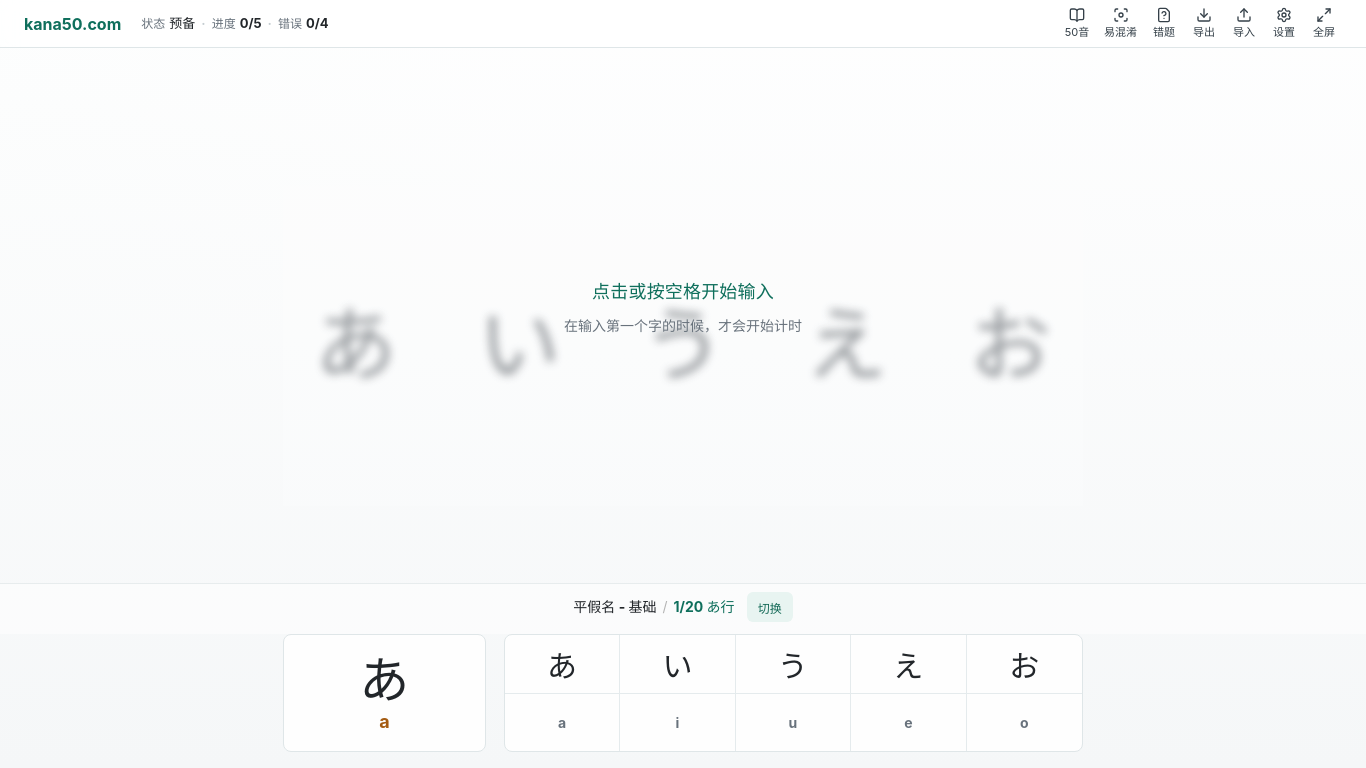
Scenario: practice page › opens the level drawer from the level switch
Click the button with aria-label "切换关卡" at [770, 607], box [747,592,793,622]
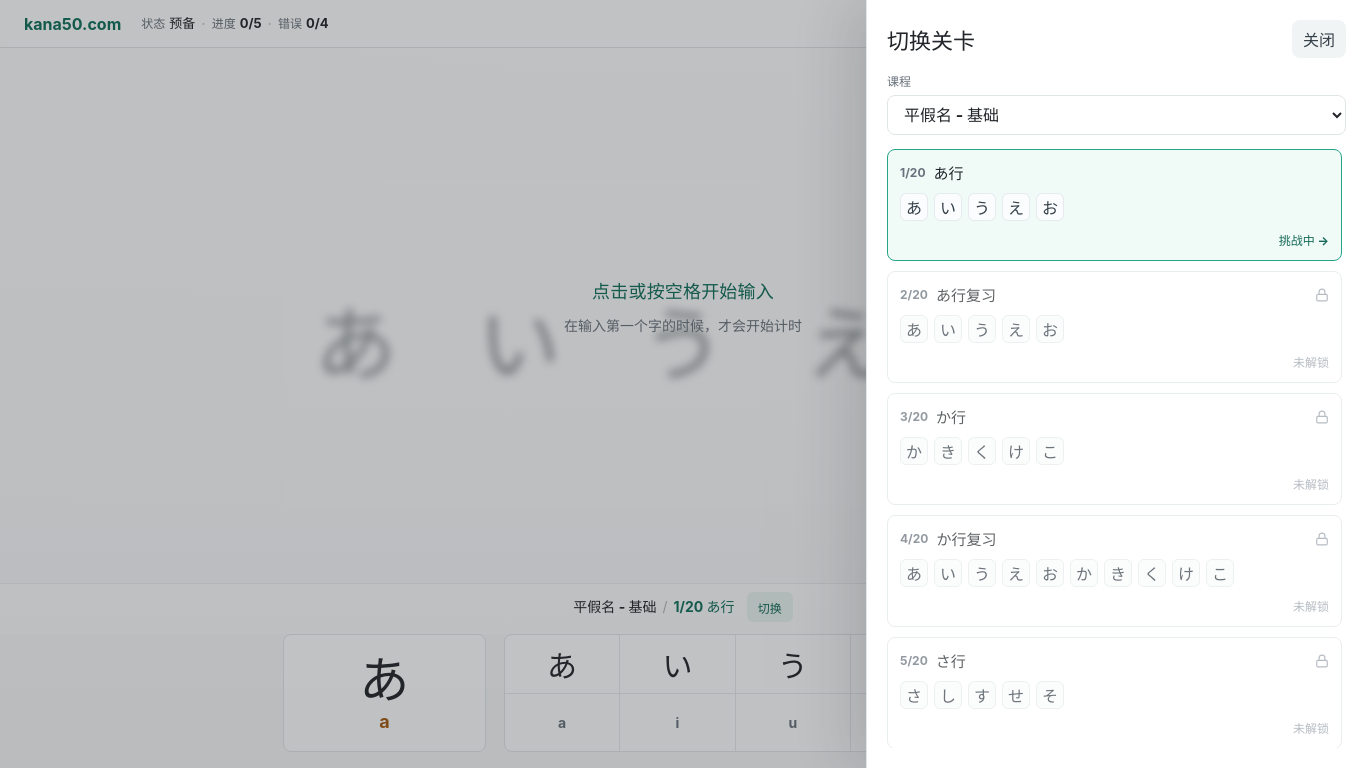
Now the dialog named "关卡列表" is shown, box [866,0,1365,767]
Now the dropdown named "选择课程" is shown, box [887,95,1346,135]
Now the button with aria-label "选择关卡 あ行" is shown, box [888,150,1341,260]
